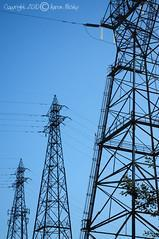power_tower: (80, 0, 159, 239), (34, 92, 73, 239), (5, 155, 34, 239)
